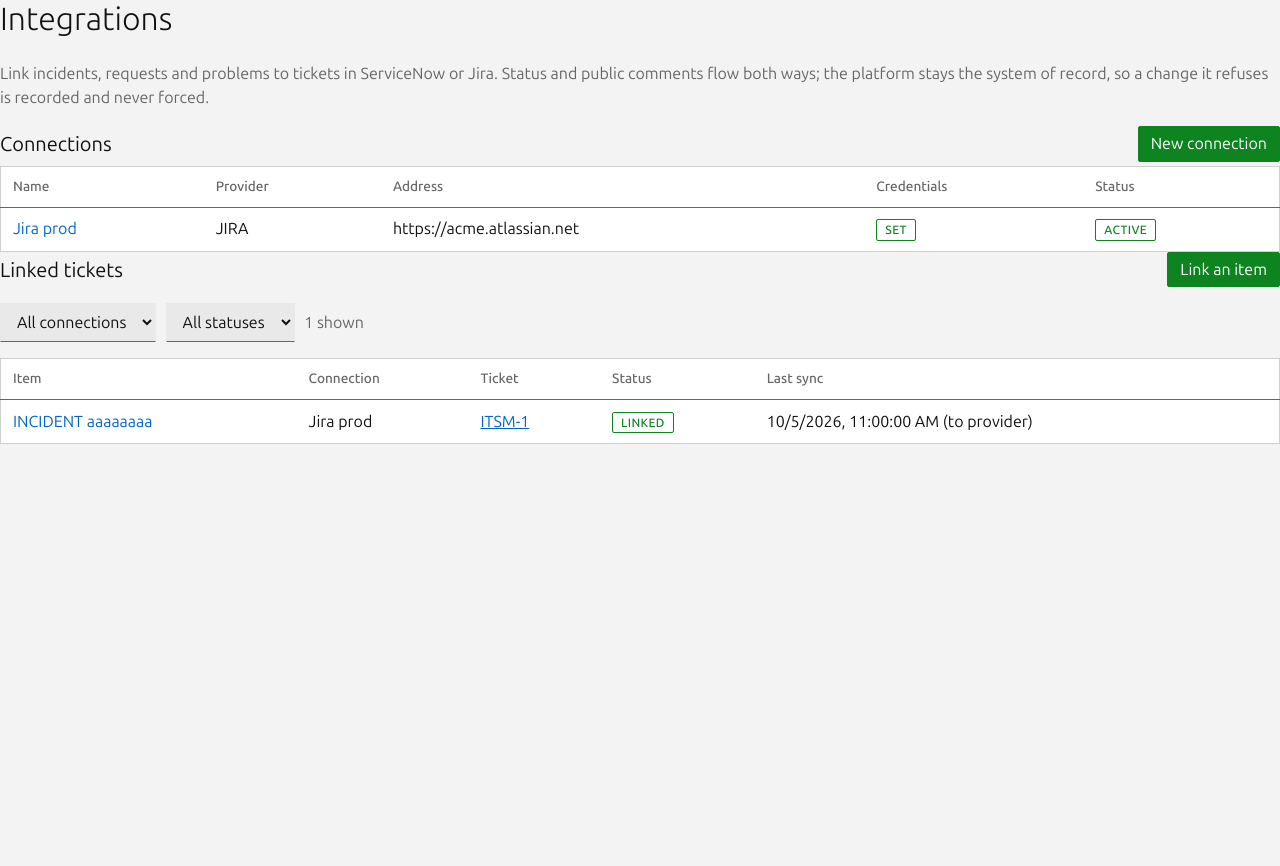
the new connection form › asks for names of variables, never secrets, and a Jira connection needs its project key
The width and height of the screenshot is (1280, 866).
Expected: the button "Jira prod" is shown, [13,217,77,241]
Click the button "New connection" at [1209, 144], box [1138,126,1279,162]
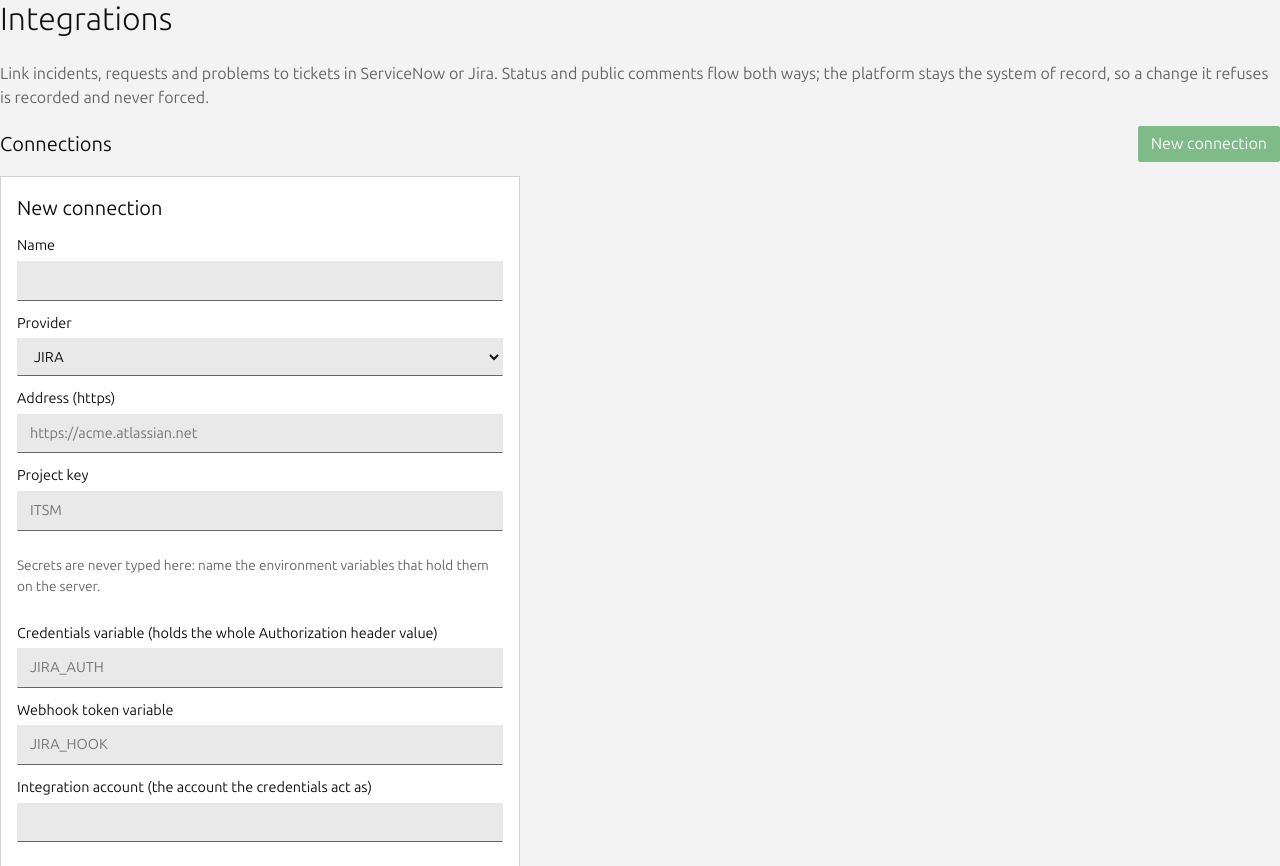
Result: the text "Secrets are never typed here" is shown at [17,557,489,594]
Type "Jira staging" into the field labelled "Name" at [260, 281], box [17,261,503,301]
Type "https://x.atlassian.net" into the field labelled "Address (https)" at [260, 434], box [17,414,503,453]
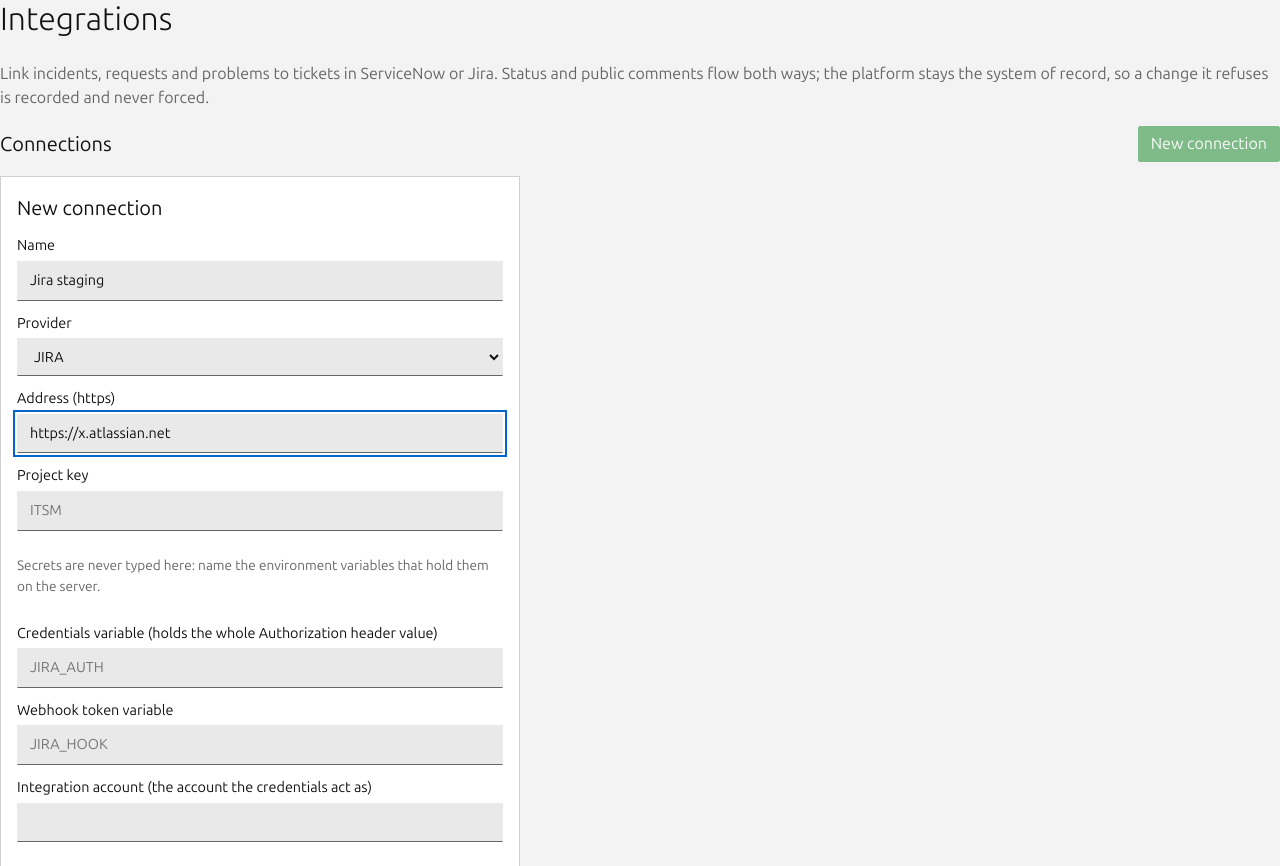
Type "J_AUTH" into the field labelled "Credentials variable (holds the whole Authorization header value)" at [260, 668], box [17,648,503,688]
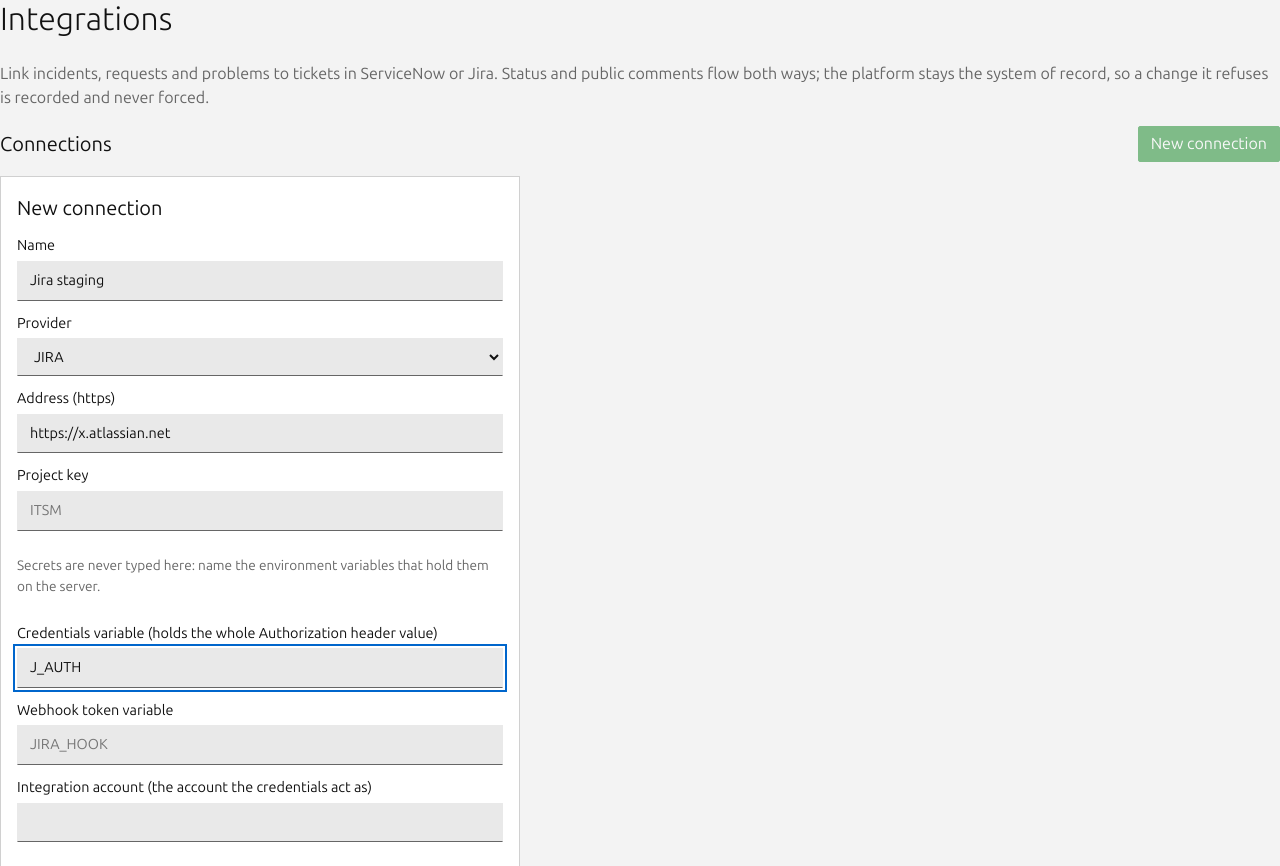
Type "J_HOOK" into the field labelled "Webhook token variable" at [260, 745], box [17,725,503,765]
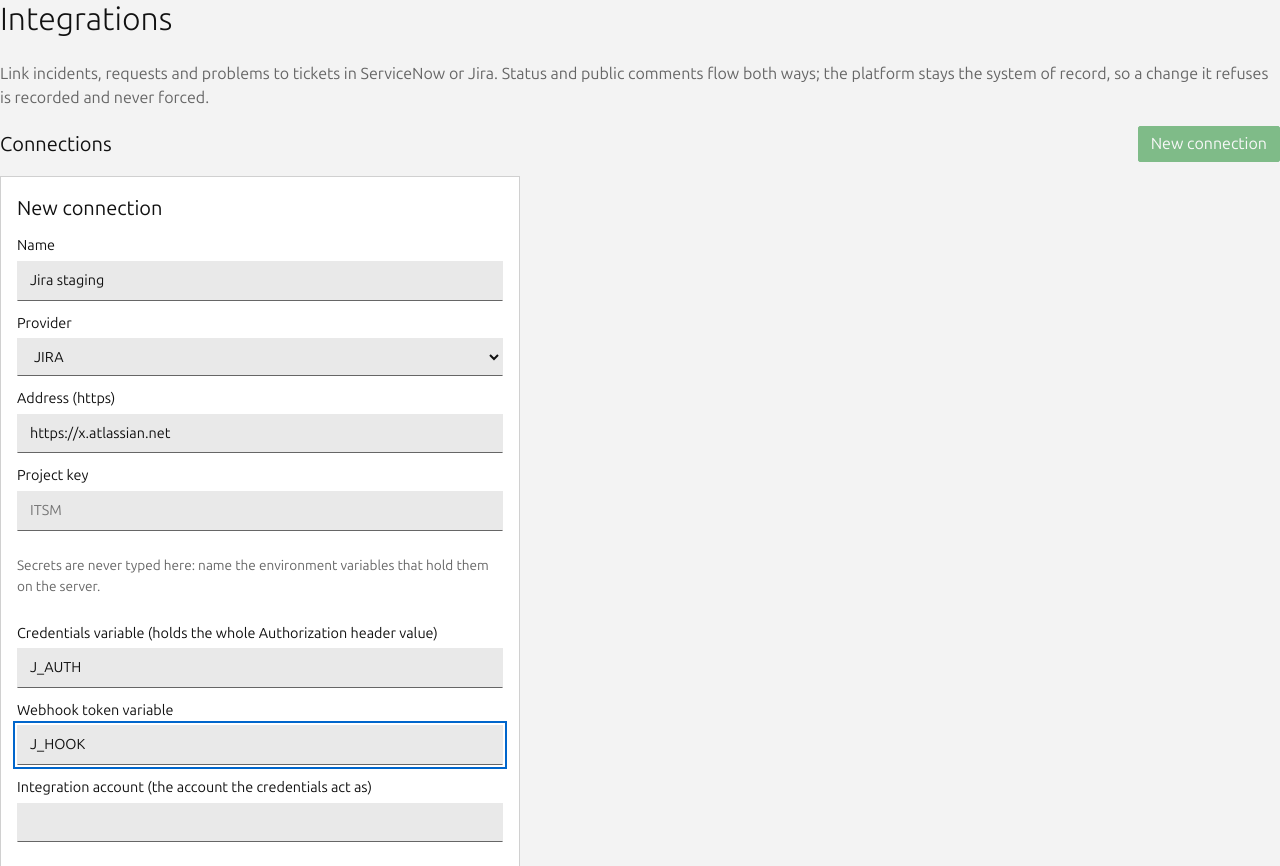
Type "svc" into the field labelled "Integration account (the account the credentials act as)" at [260, 822], box [17,802,503,842]
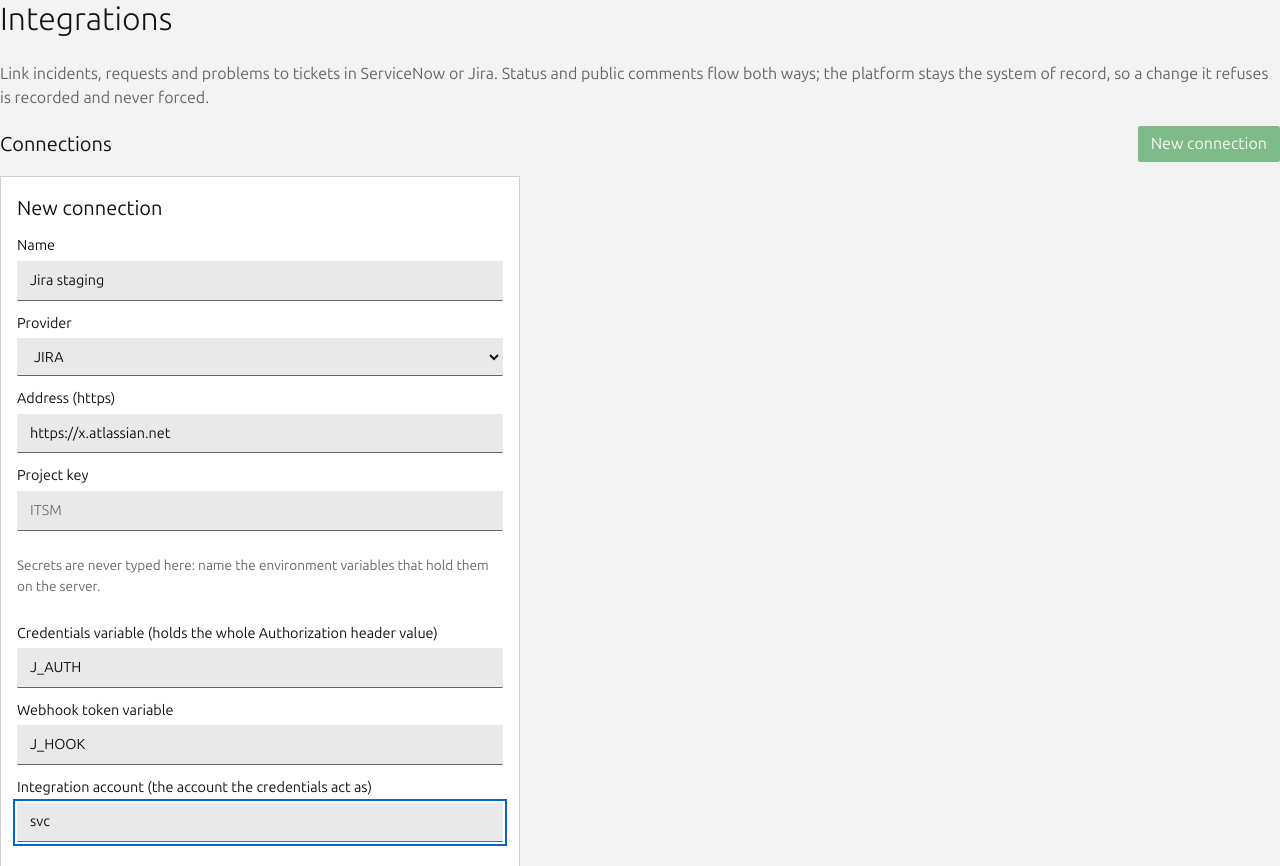
Type "itsm" into the field labelled "Project key" at [260, 511], box [17,491,503,531]
(page scrolled)
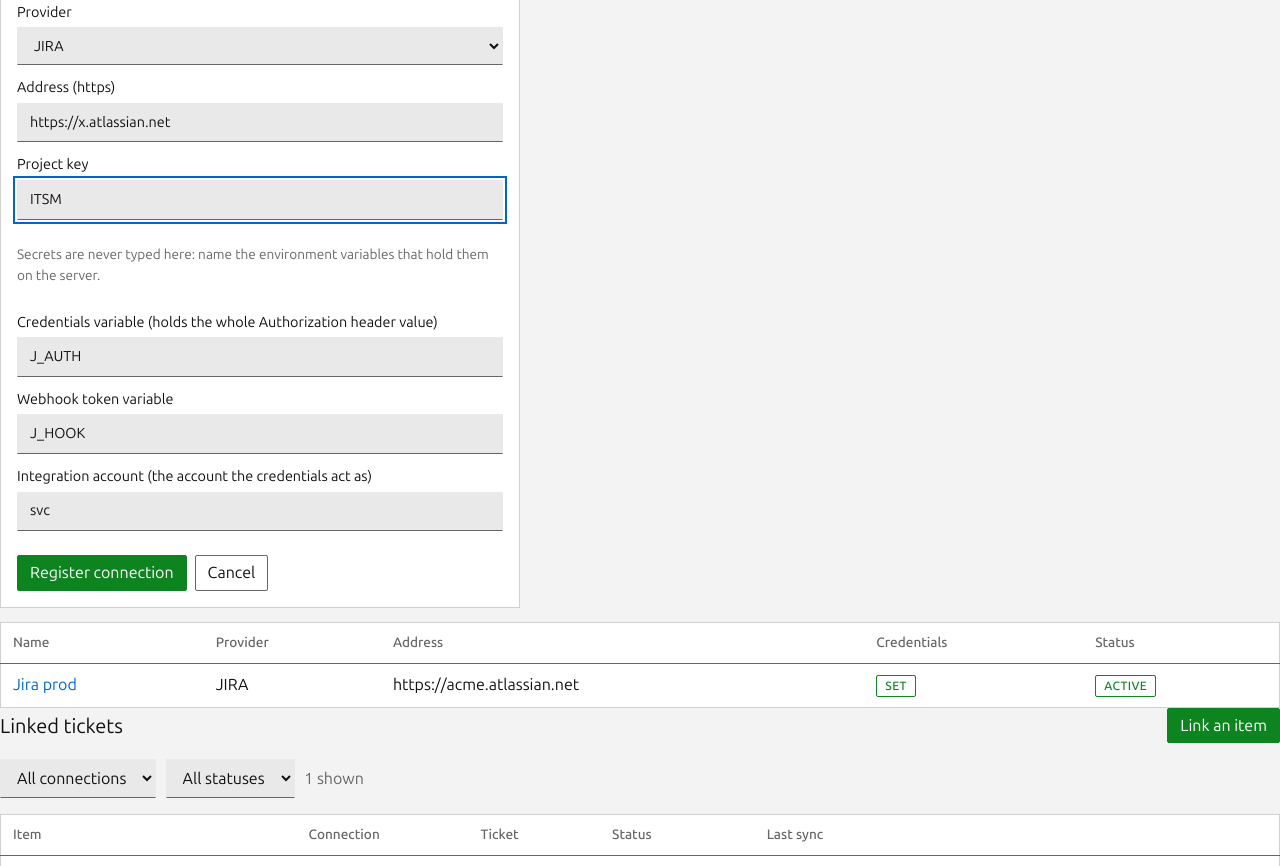
Result: the button "Register connection" is enabled at [17,555,187,591]
